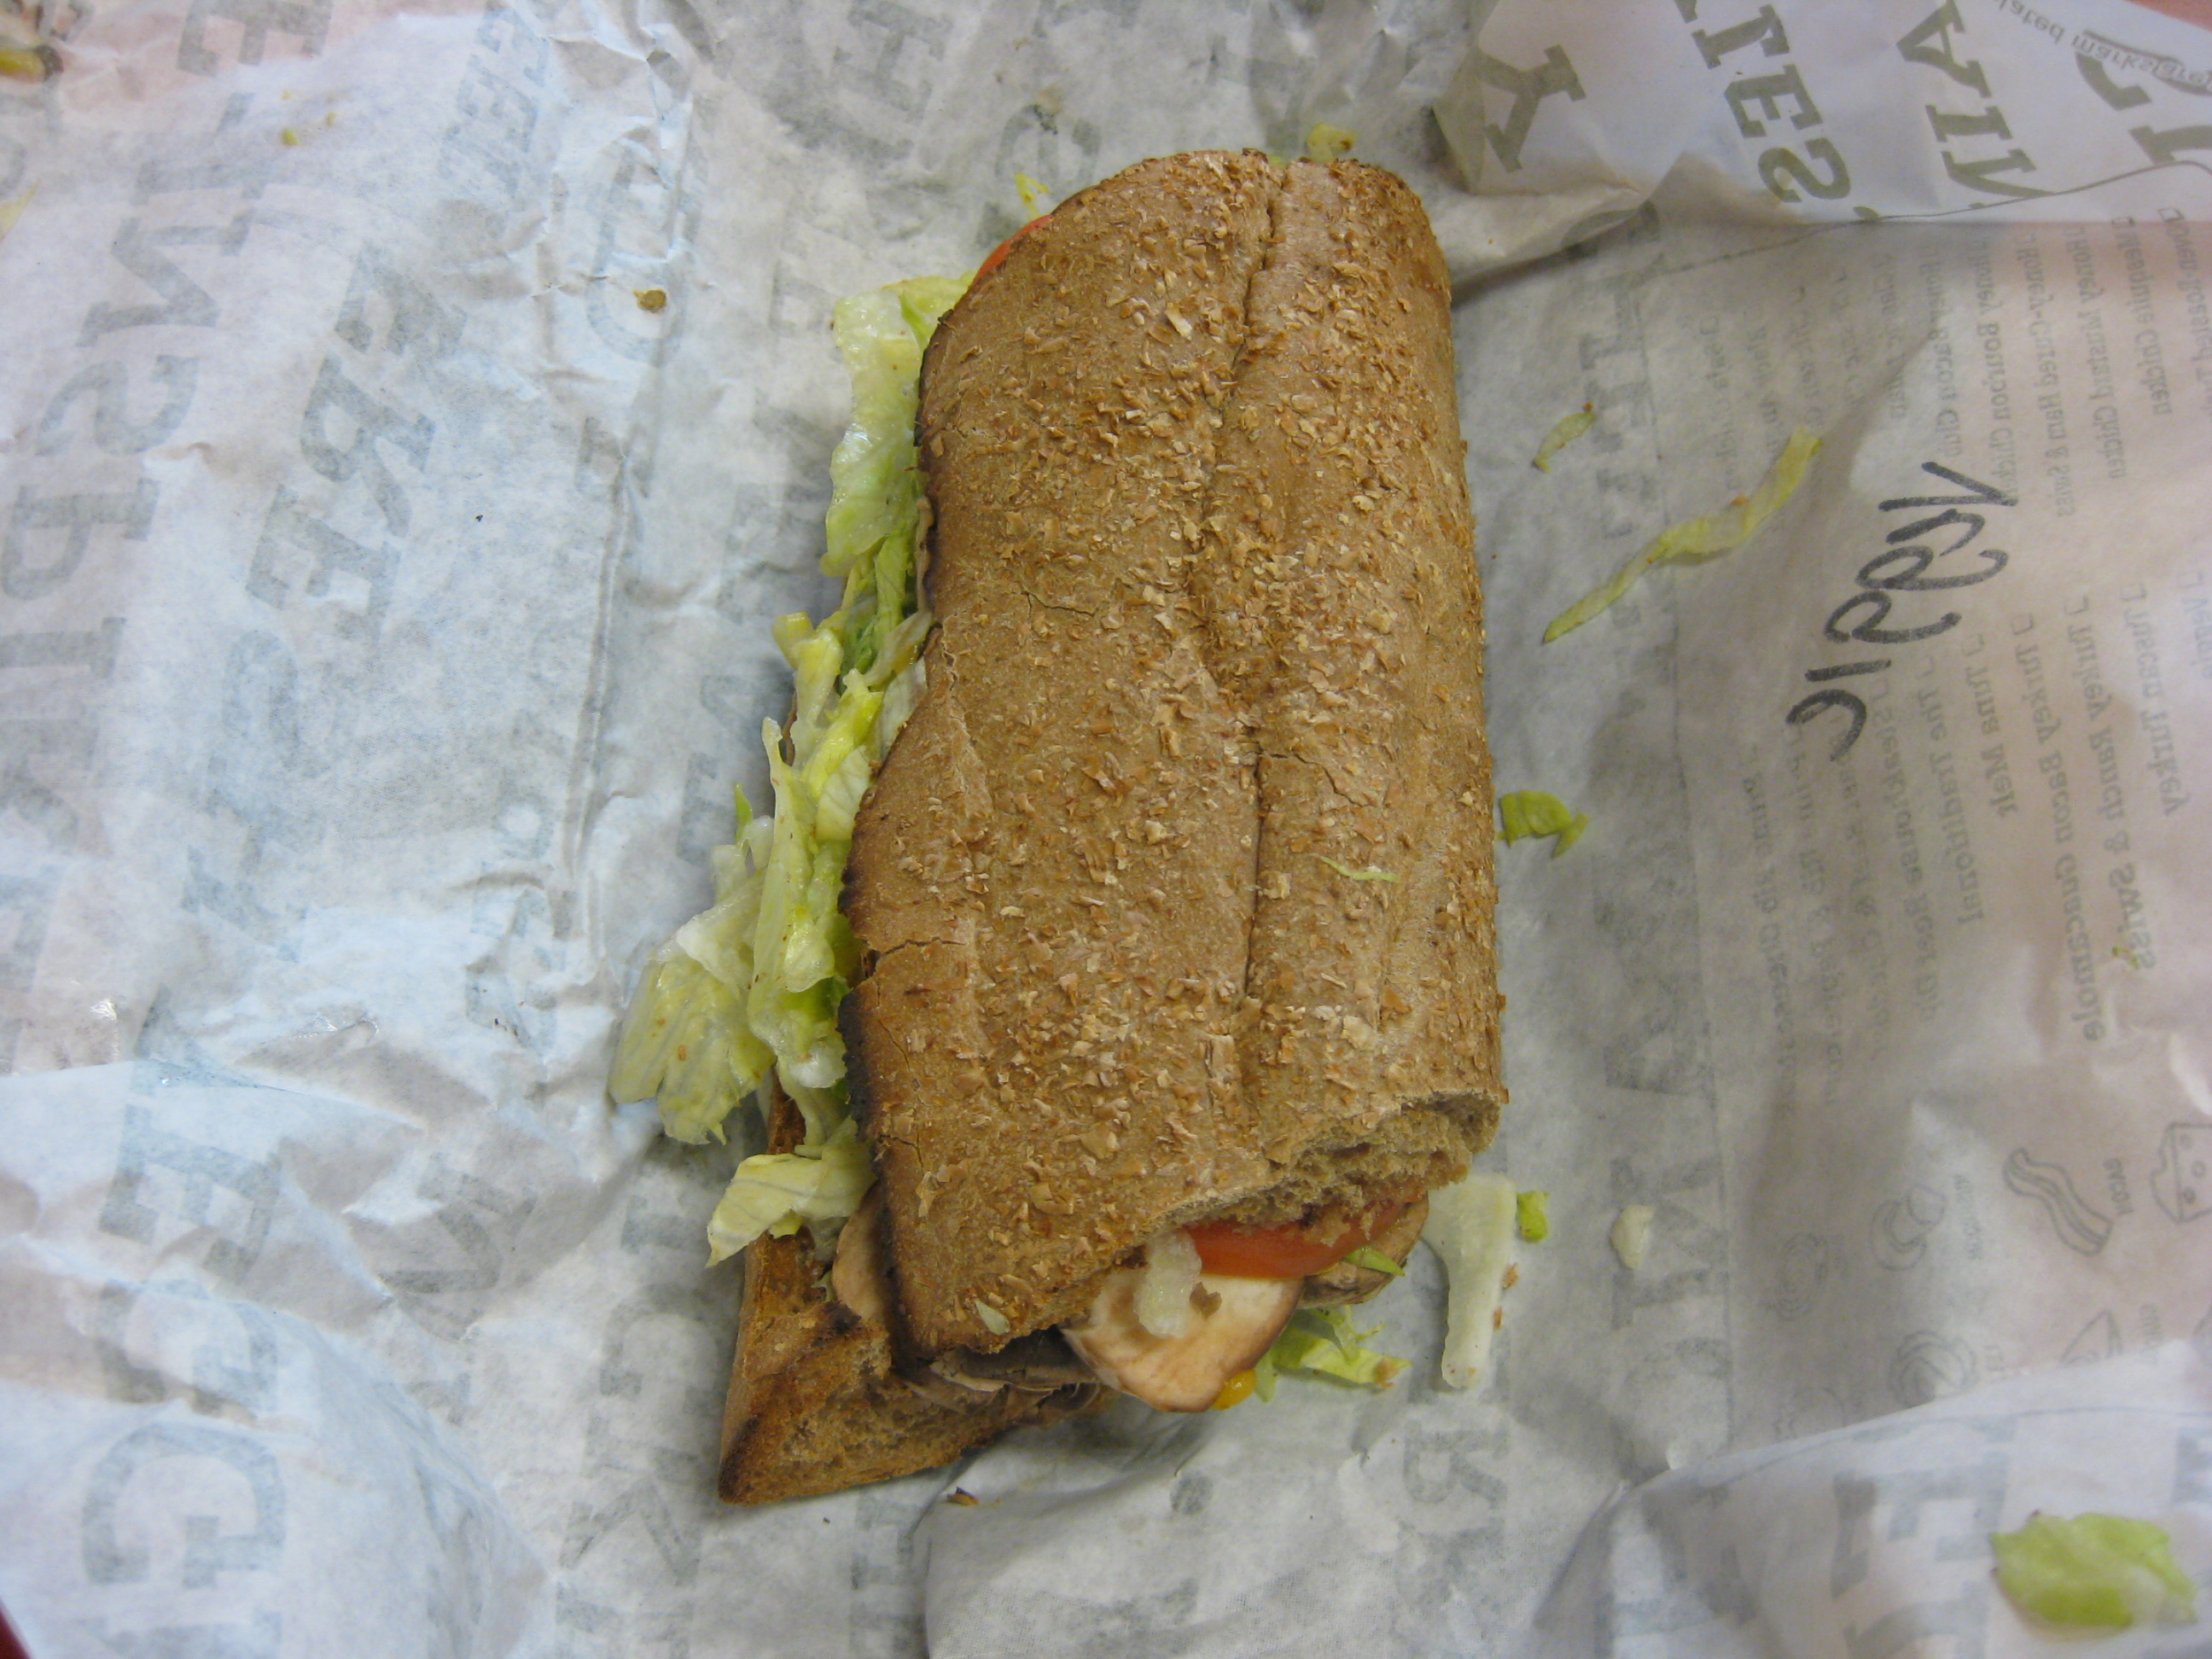sub: (770, 102, 1559, 1440)
